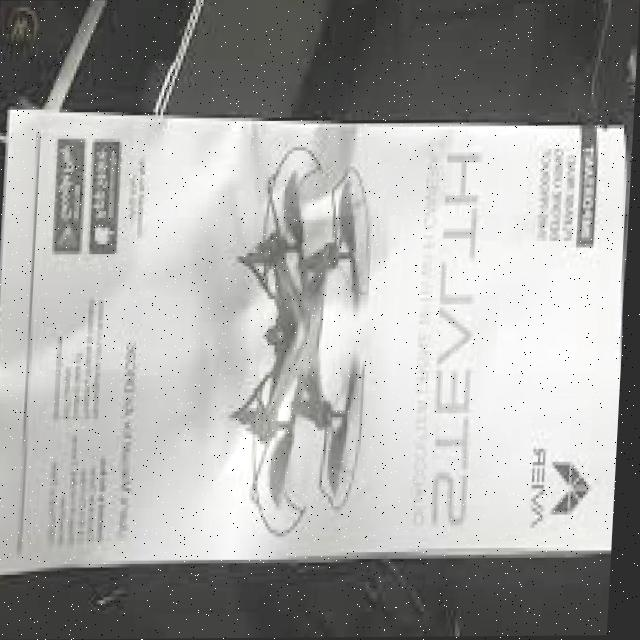drone: (217, 128, 390, 540)
